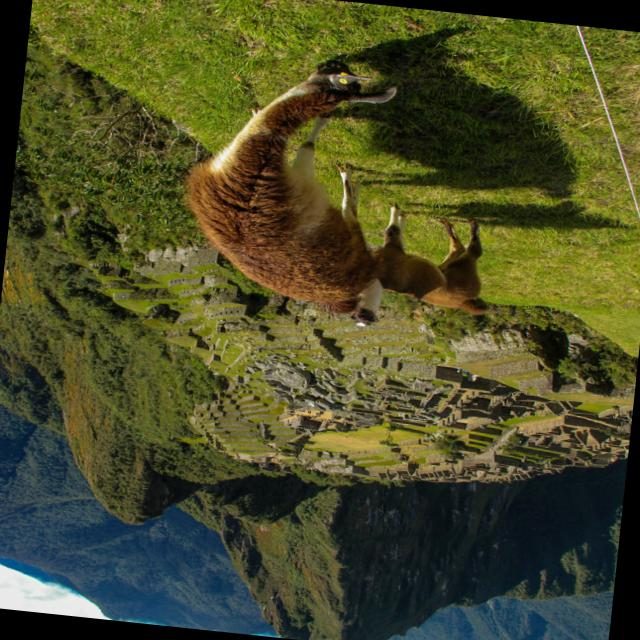alpaca: (172, 43, 520, 337)
